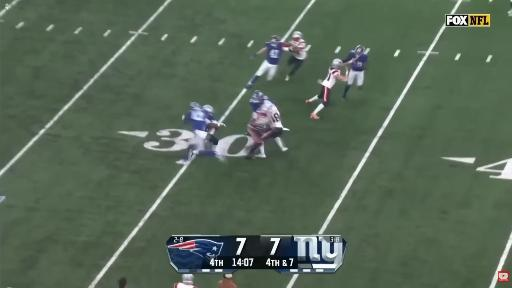Helmet: (252, 90, 266, 102), (331, 58, 343, 69), (355, 45, 365, 55), (292, 31, 302, 41), (182, 274, 193, 283), (271, 35, 280, 44), (203, 105, 213, 113), (263, 100, 271, 109), (259, 107, 267, 115), (190, 102, 200, 108)
Jersey: (248, 100, 273, 132), (259, 100, 282, 127), (185, 109, 210, 131), (346, 51, 367, 71), (265, 42, 283, 65), (322, 67, 340, 88), (290, 39, 307, 59), (250, 97, 274, 111), (271, 106, 283, 128), (174, 283, 195, 287)
Player: (177, 103, 225, 164), (246, 91, 287, 159), (306, 59, 346, 119), (246, 35, 289, 88), (250, 91, 284, 131), (343, 45, 367, 99), (286, 32, 307, 81), (174, 274, 195, 287), (207, 126, 218, 150)
